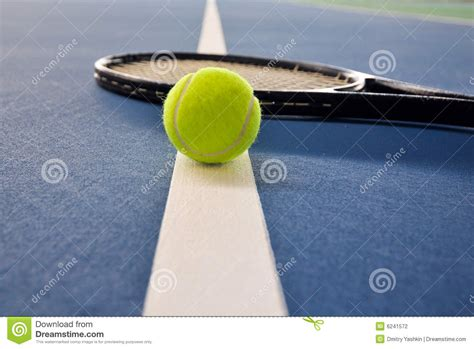tennis_ball: (161, 67, 260, 164)
